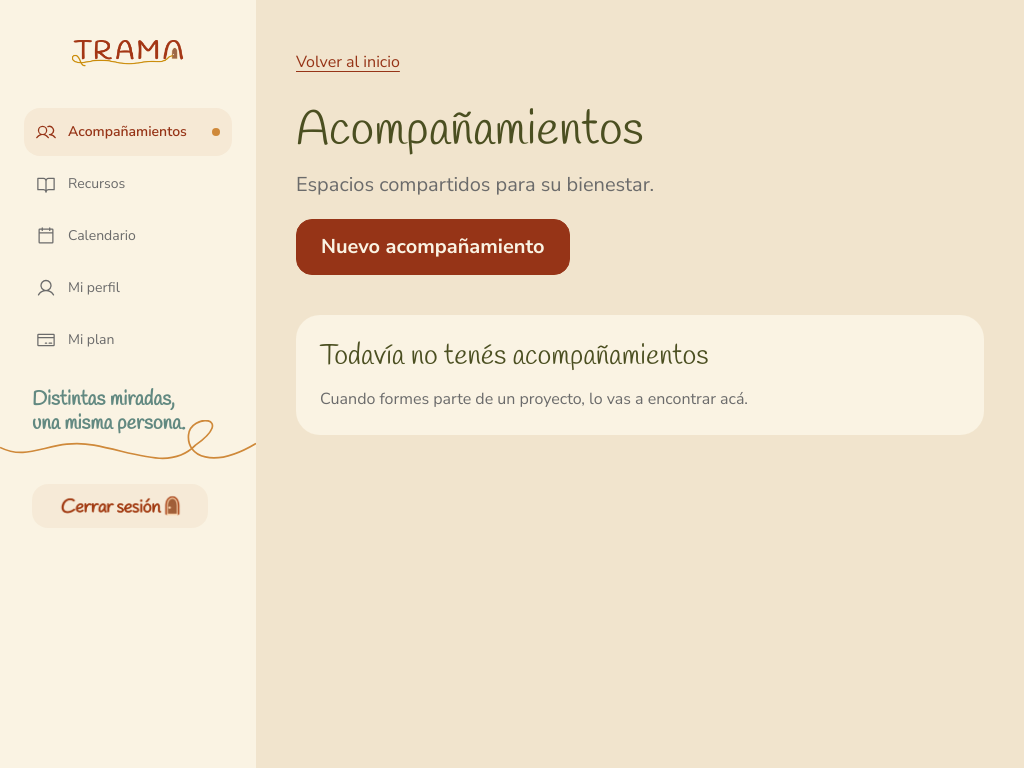
Test: Alta real de acompañamiento › permite crear desde la lista vacía y abrir el perfil con el UUID recibido
Expected: the heading "Todavía no tenés acompañamientos" is shown, [320,338,708,375]
Click the link "Nuevo acompañamiento": (433, 247) [296,219,570,275]
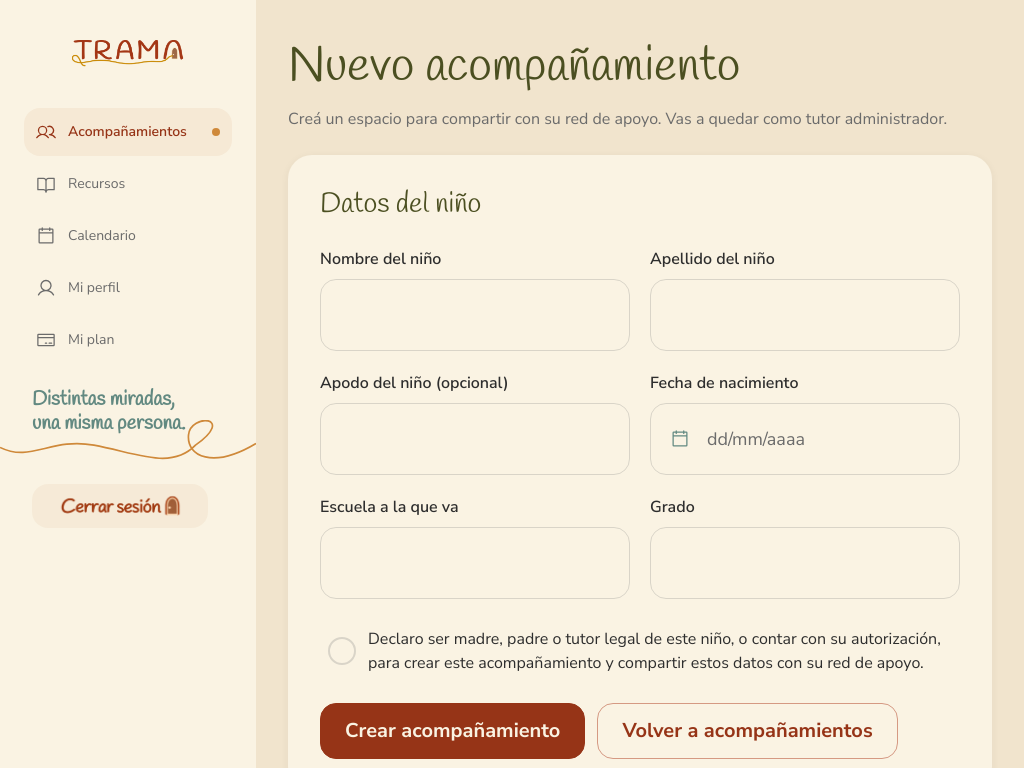
In the field named "Nombre del niño" below "Nombre del niño": (475, 315) [320,279,630,351], type "Luz ficticia"
In the field named "Apellido del niño" below "Apellido del niño": (805, 315) [650,279,960,351], type "Ejemplo"
In the field named "Escuela a la que va" below "Escuela a la que va": (475, 563) [320,527,630,599], type "Escuela ficticia"
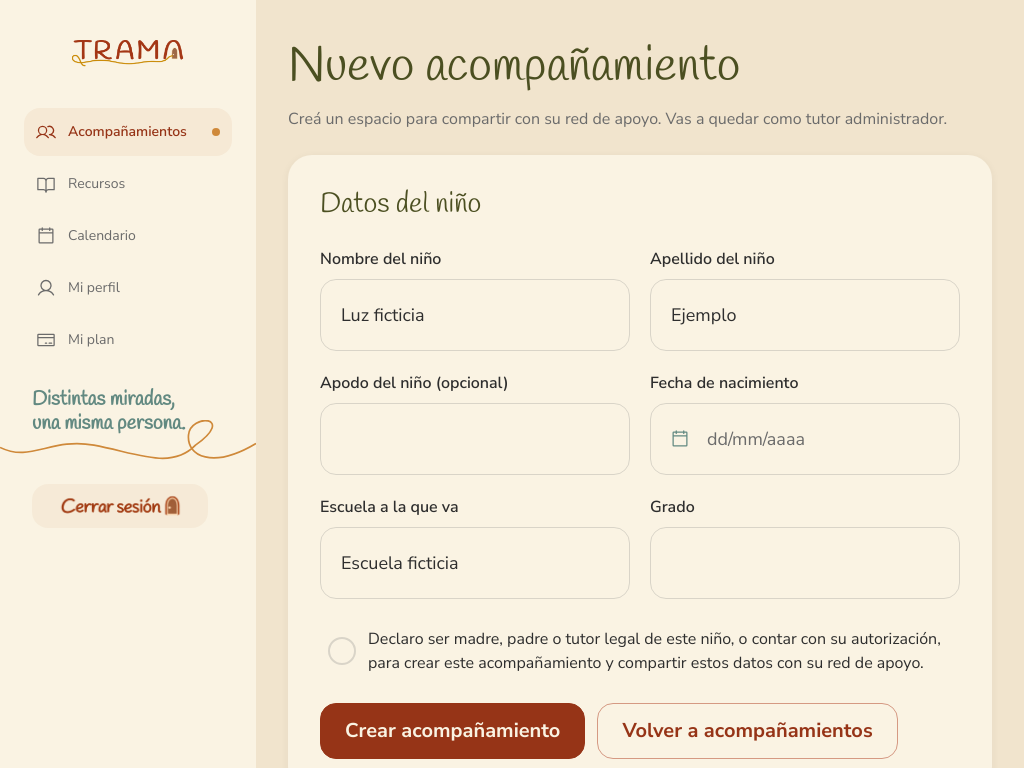
In the field named "Grado" below "Grado": (805, 563) [650,527,960,599], type "2.º"
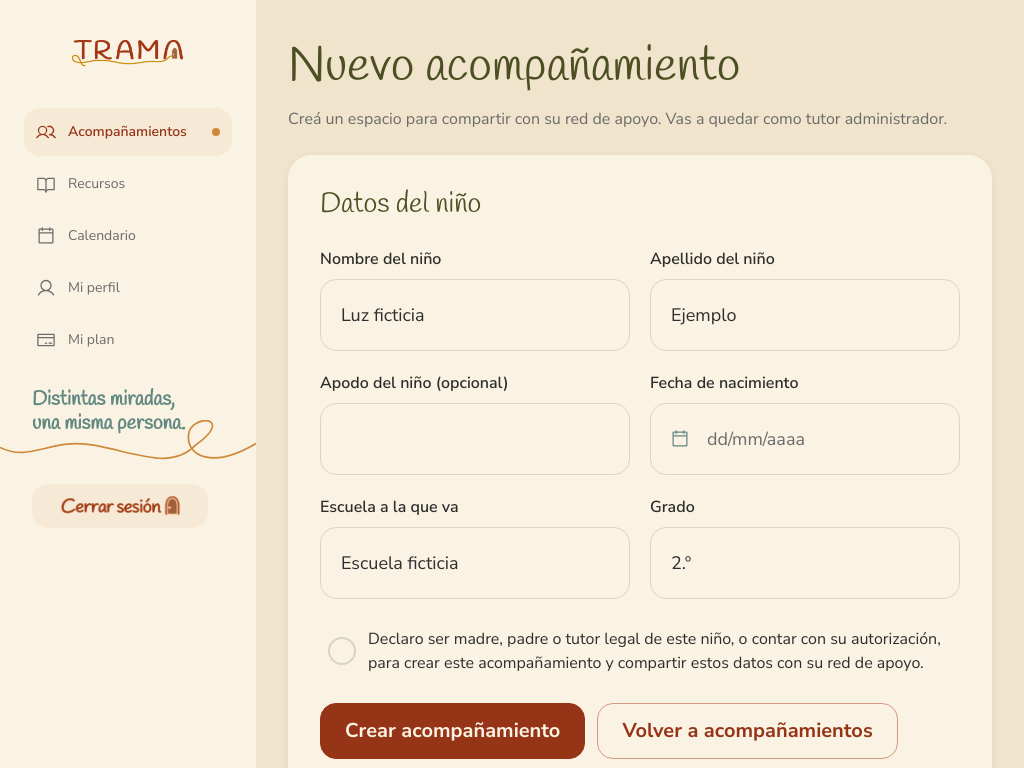
In the field named "Fecha de nacimiento": (805, 439) [650,403,960,475], type "2018-05-12"
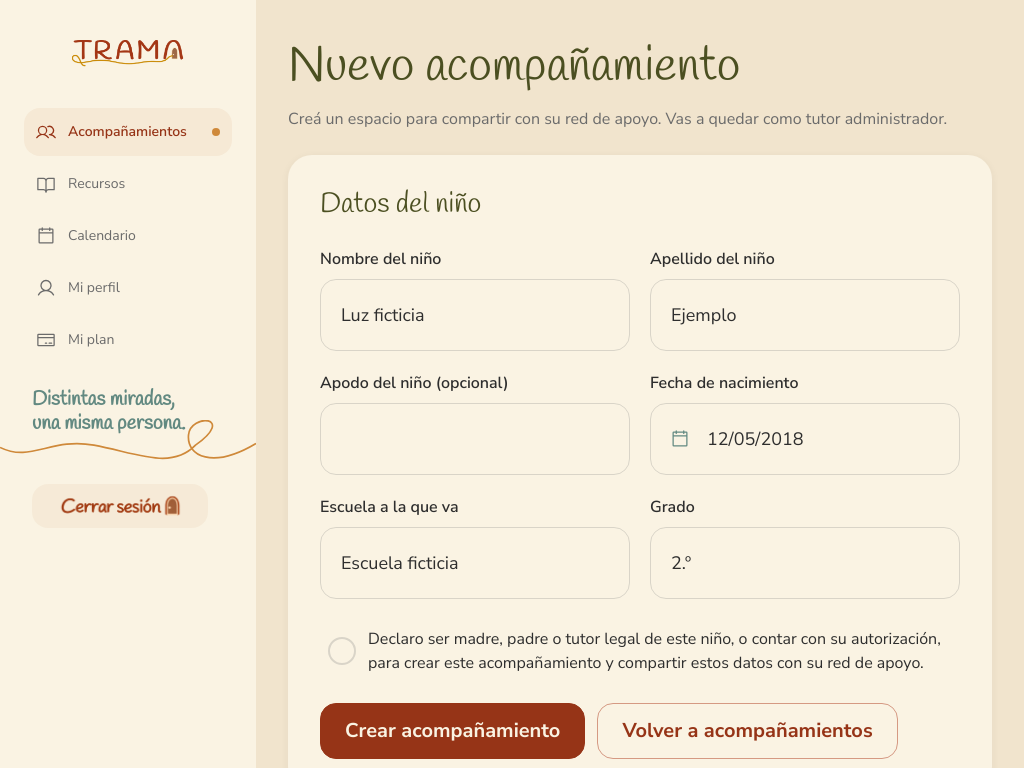
Click the checkbox: (640, 651) [320,623,960,679]
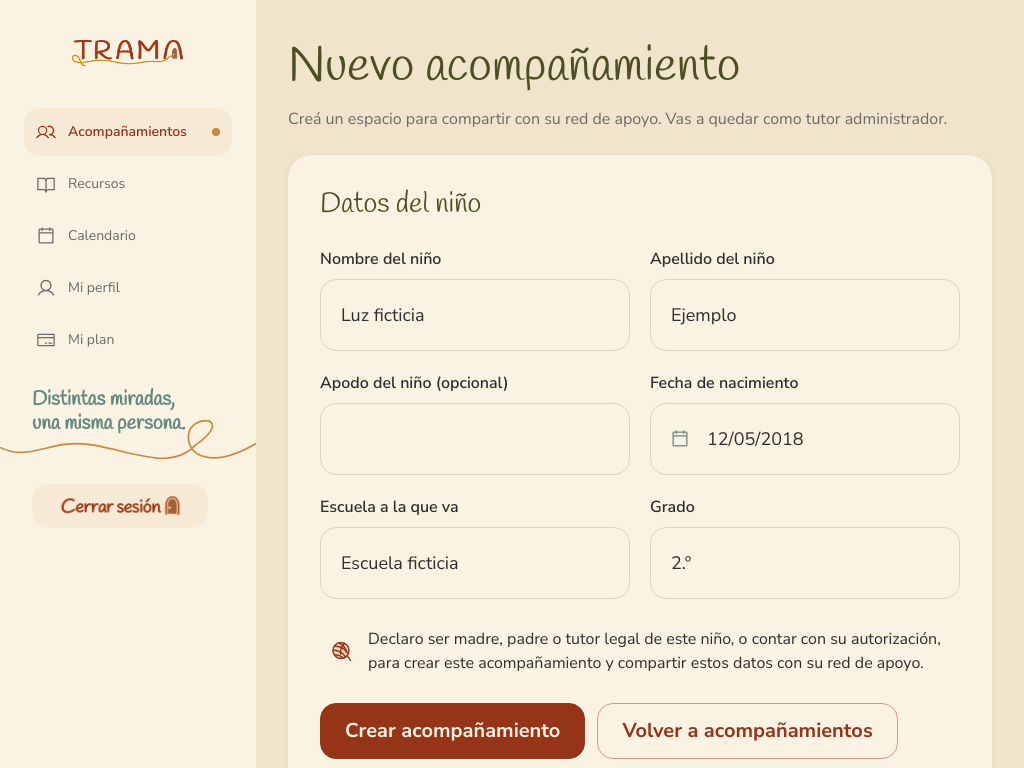
Click the button "Crear acompañamiento": (453, 731) [320,703,585,759]
(page scrolled)
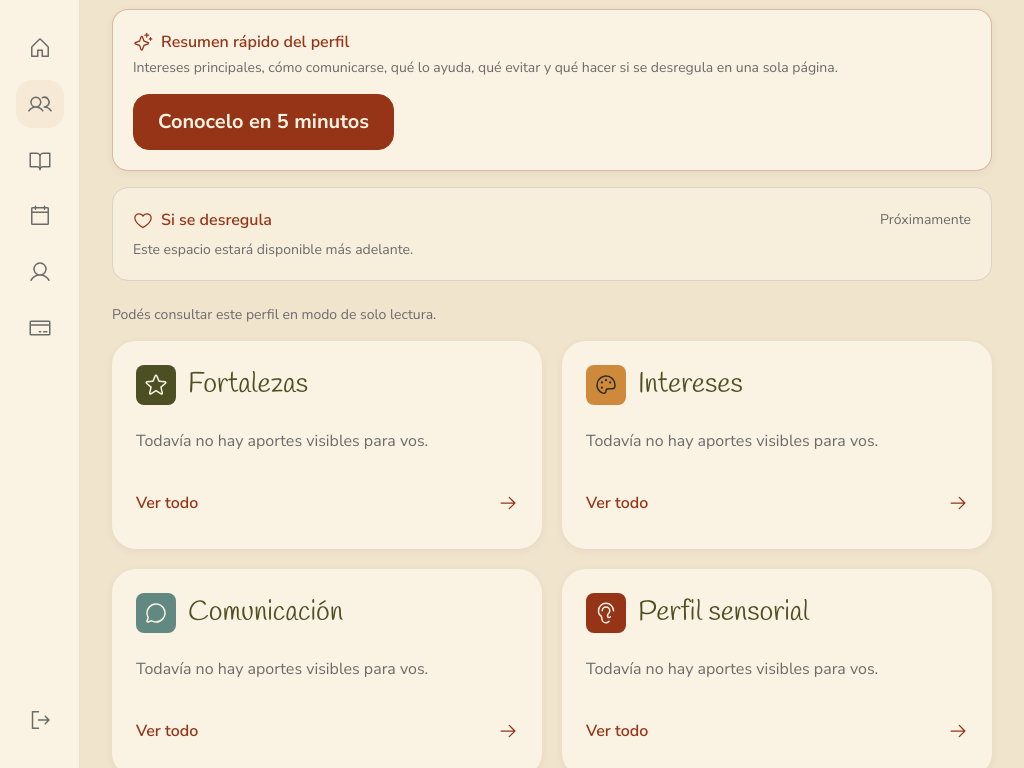
Now the heading "Fortalezas" is shown, box [188,367,308,403]
